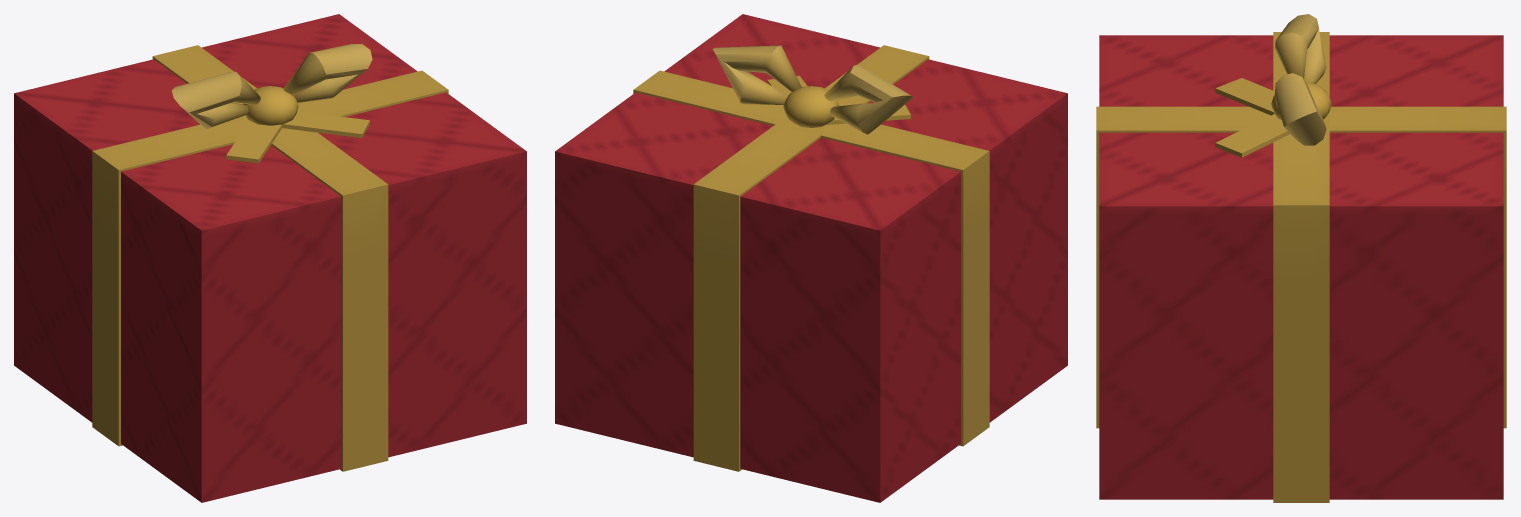
The model's file is Xmas_Present_A.fbx.
The picture shows the model from 3 angles, left to right: view 1: azimuth 30°, elevation 25°; view 2: azimuth 150°, elevation 25°; view 3: azimuth 270°, elevation 25°; orthographic projection. The views are drawn at different scales.
Visible parts, largest first — view 1: Xmas_Present_A; view 2: Xmas_Present_A; view 3: Xmas_Present_A.
Boxes of the visible parts, x1,y1,x2,y2 form: Xmas_Present_A: [14, 14, 526, 502]; Xmas_Present_A: [555, 14, 1067, 502]; Xmas_Present_A: [1096, 14, 1506, 502].
Bounding box in the file's own units: 10.14 × 9.91 × 10.14.
